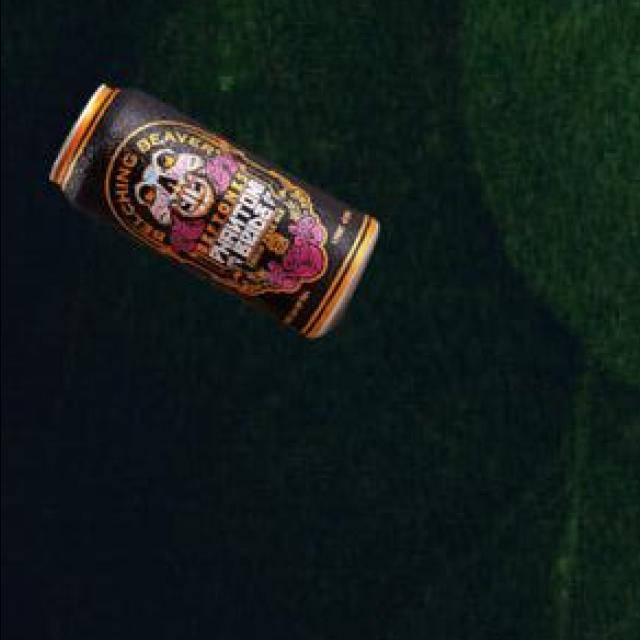logam: (47, 89, 374, 341)
